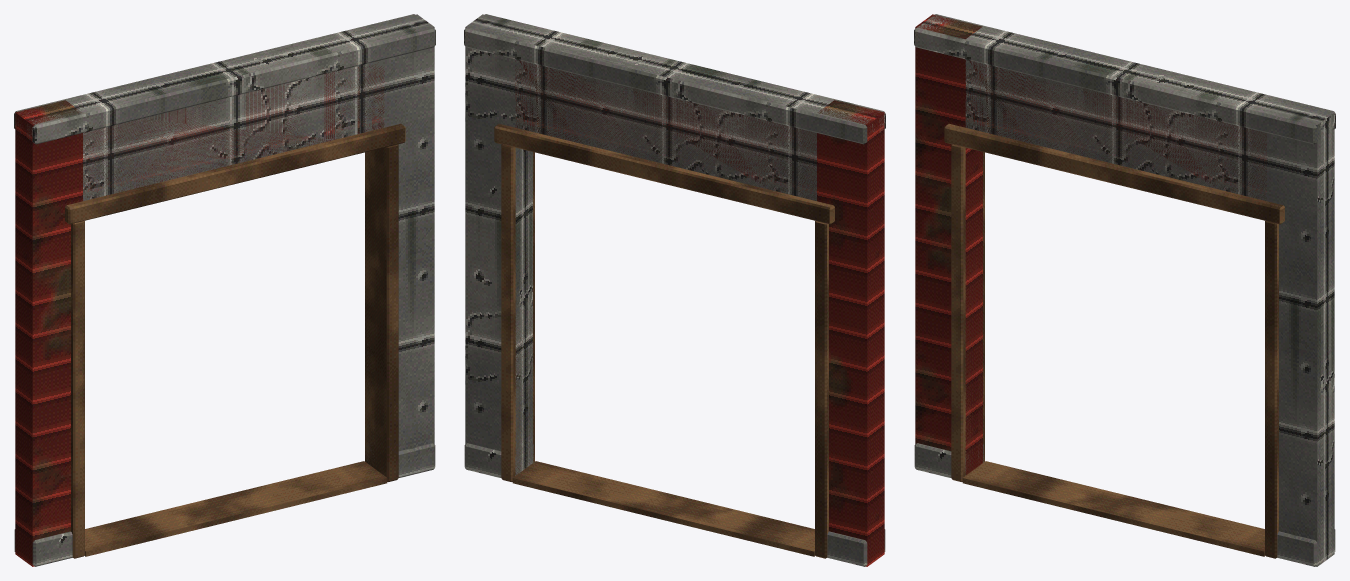
The model's file is wall_siding_red_door.glb.
The picture shows the model from 3 angles, left to right: view 1: azimuth 30°, elevation 25°; view 2: azimuth 150°, elevation 25°; view 3: azimuth 330°, elevation 25°; orthographic projection.
Parts seen in each view (by area): view 1: wall_siding_red_door_mesh, wall_siding_red_door_col-colonly.002, wall_siding_red_door_col-colonly.001; view 2: wall_siding_red_door_mesh, wall_siding_red_door_col-colonly.002, wall_siding_red_door_col-colonly.001; view 3: wall_siding_red_door_mesh, wall_siding_red_door_col-colonly.002, wall_siding_red_door_col-colonly.001.
Boxes of the visible parts, box(x1,y1,x2,y2) form: wall_siding_red_door_mesh: box(14, 14, 435, 566); wall_siding_red_door_col-colonly.002: box(66, 26, 384, 200); wall_siding_red_door_col-colonly.001: box(367, 14, 434, 464); wall_siding_red_door_mesh: box(464, 14, 885, 566); wall_siding_red_door_col-colonly.002: box(515, 26, 833, 200); wall_siding_red_door_col-colonly.001: box(465, 14, 532, 475); wall_siding_red_door_mesh: box(914, 14, 1335, 566); wall_siding_red_door_col-colonly.002: box(965, 26, 1283, 200); wall_siding_red_door_col-colonly.001: box(1267, 100, 1334, 566).
Size of what is drawn, in the model's own units: 4 by 4.2 by 0.44.
Materials: 3 (3 with a texture image).
